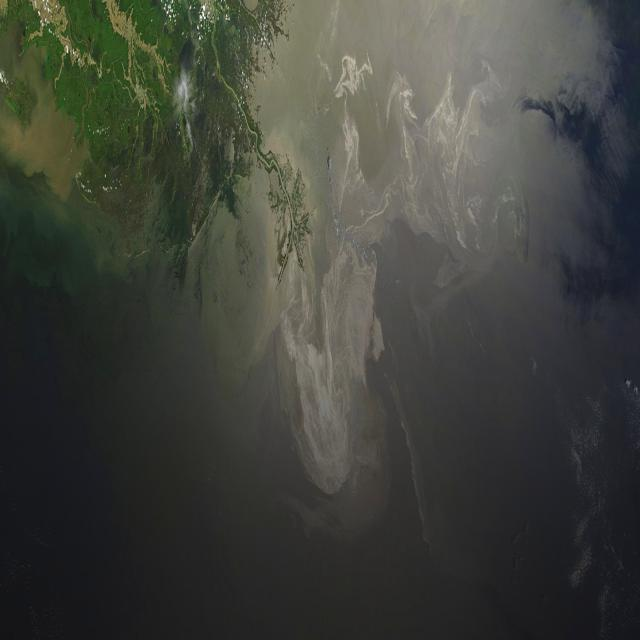oil spill: (334, 57, 523, 266), (281, 246, 381, 493)
